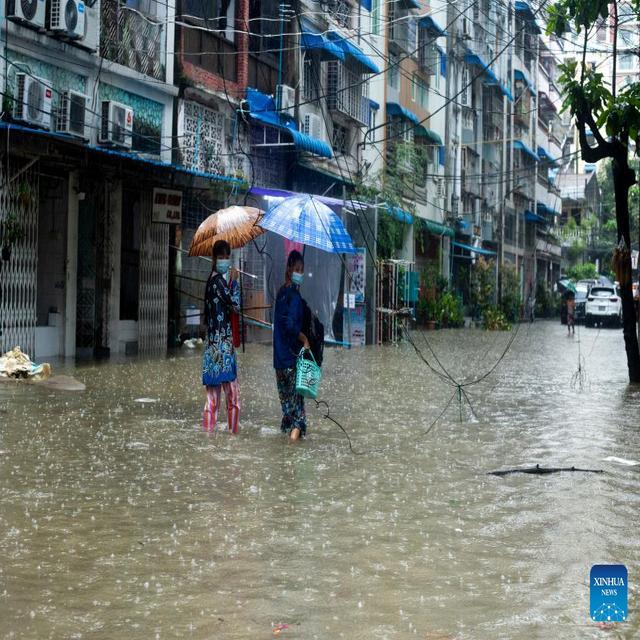Person-RiskLevel2: (266, 240, 347, 449), (186, 239, 256, 444)
